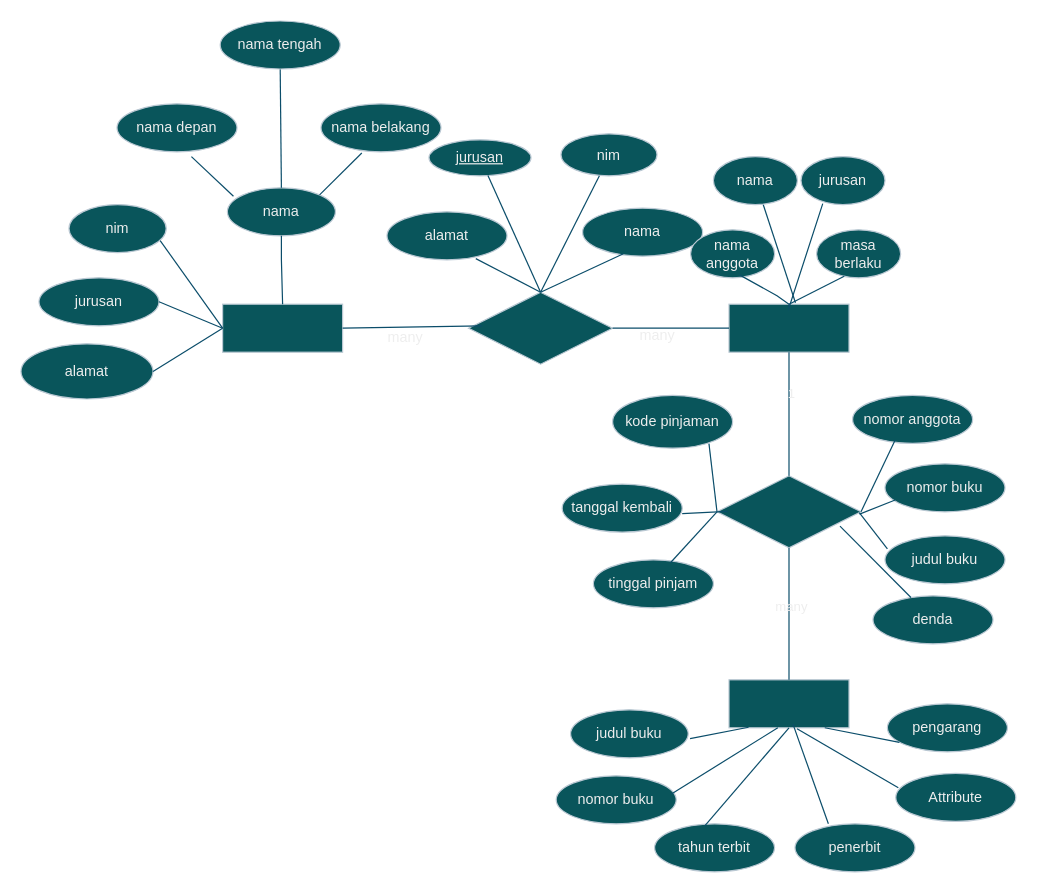
Some shapes in this 1037 by 893 pixel diagram are drawn without their labels. Here are the shapes that lost their labels. From the top down, the centre of each, then its label:
At [282,327]: "mahasiswa".
At [540,327]: "mendaftar".
At [788,327]: "anggota jurusan".
At [788,511]: "minjam".
At [788,703]: "buku".
